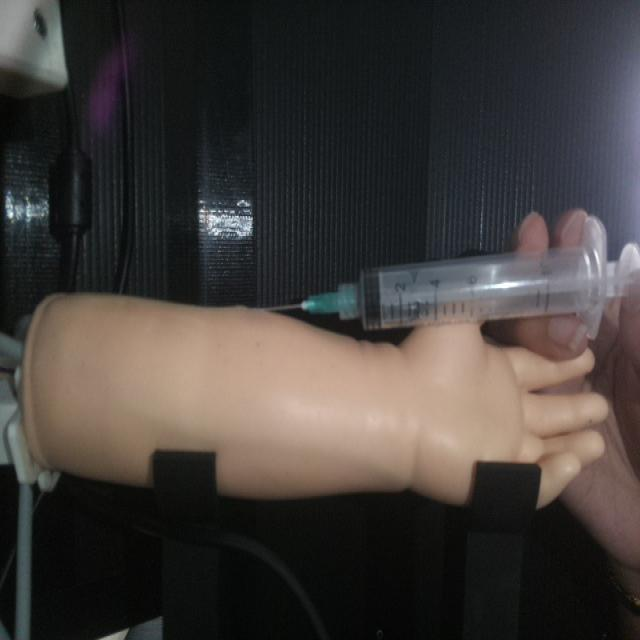Outside: (249, 216, 640, 340)
